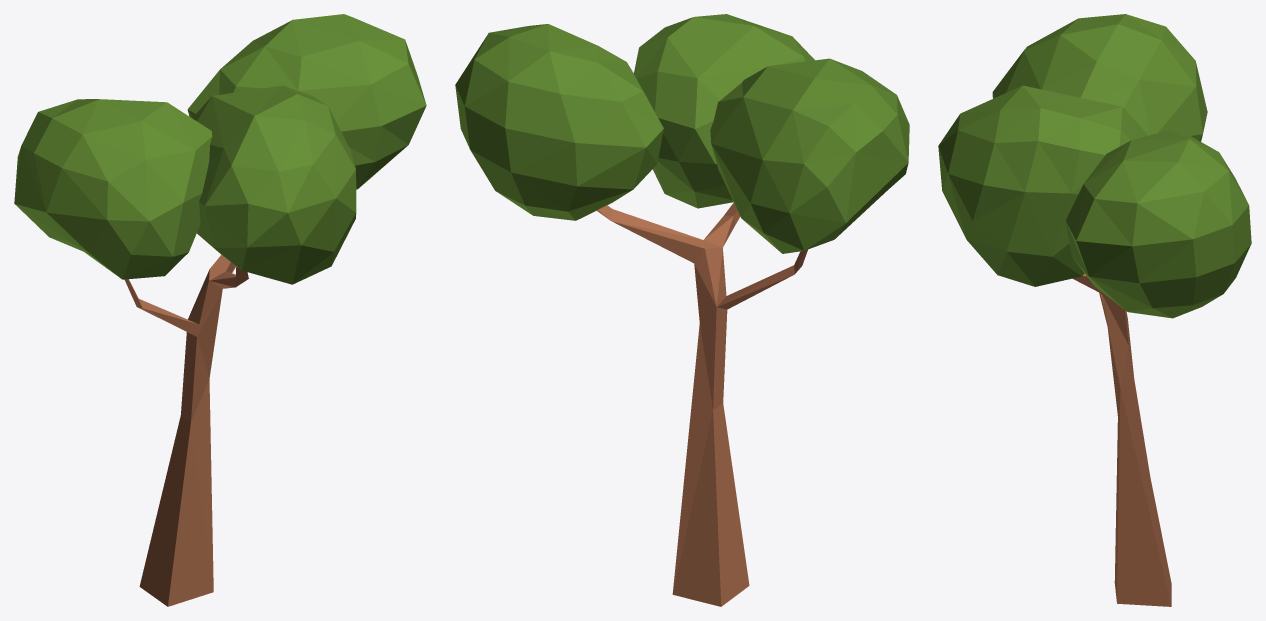
The model's file is tree.fbx.
3 views of the same model, side by side, from view 1: azimuth 30°, elevation 25°; view 2: azimuth 150°, elevation 25°; view 3: azimuth 270°, elevation 25° (orthographic).
Visible parts, largest first — view 1: Cube.001; view 2: Cube.001; view 3: Cube.001.
Boxes of the visible parts, x1,y1,x2,y2 form: Cube.001: (14, 14, 426, 606); Cube.001: (455, 14, 909, 606); Cube.001: (938, 14, 1251, 606).
Bounding box in the file's own units: 2227 × 2791 × 1505.
